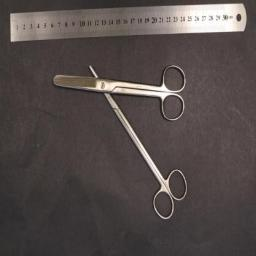Dressing Scissors: (54, 62, 186, 124)
